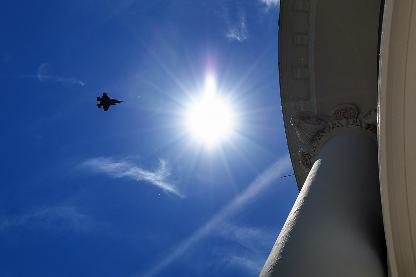F22: (96, 93, 122, 111)
